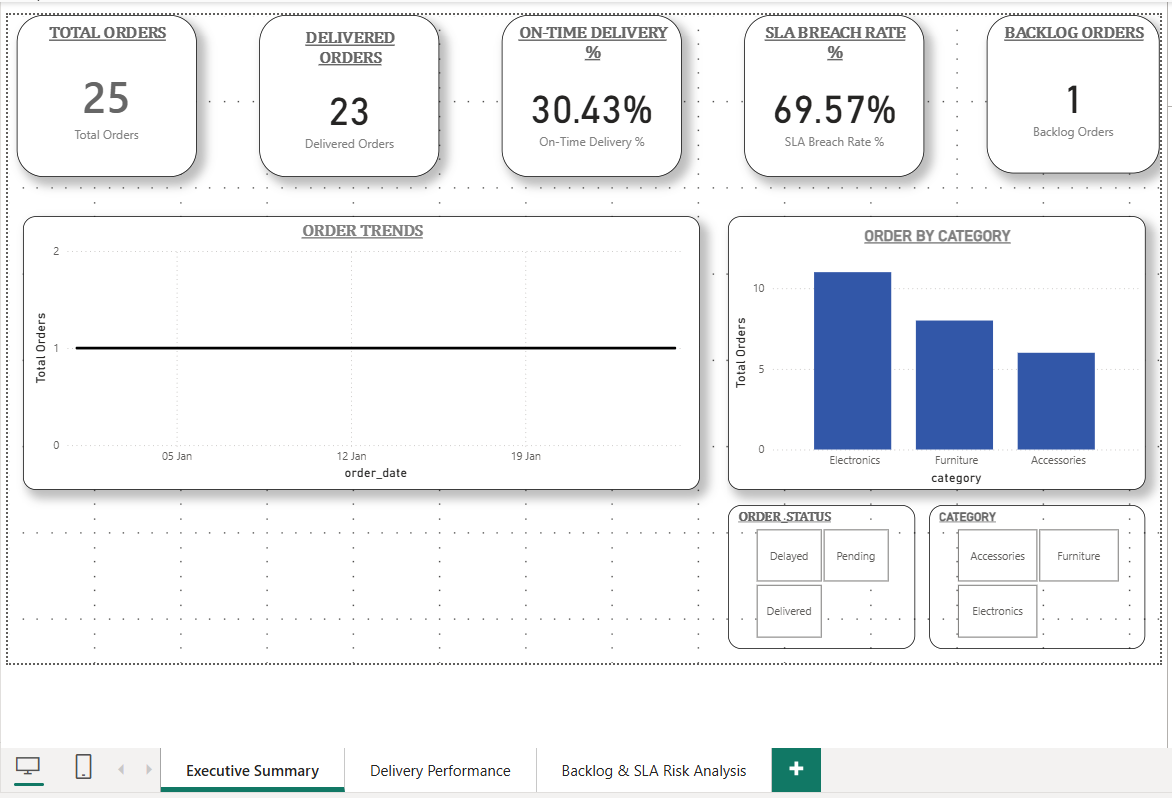

Layout of this report page (visuals, bound fields, positions):
{"tool":"powerbi","page":{"name":"Executive Summary","canvas":[1280,720],"ordinal":0},"visuals":[{"type":"cardVisual","title":"TOTAL ORDERS","fields":{"Data":["sample_orders.Total Orders"]},"box":[10,0,200,180],"z":0},{"type":"card","title":"DELIVERED ORDERS","fields":{"Values":["sample_orders.Delivered Orders"]},"box":[279.5,0,200,180],"z":1000},{"type":"card","title":"ON-TIME DELIVERY %","fields":{"Values":["sample_orders.On-Time Delivery %"]},"box":[549,0,200,180],"z":2000},{"type":"card","title":"SLA BREACH RATE %","fields":{"Values":["sample_orders.SLA Breach Rate %"]},"box":[818.5,0,200,180],"z":3000},{"type":"card","title":"BACKLOG ORDERS","fields":{"Values":["sample_orders.Backlog Orders"]},"box":[1088,0,192,176],"z":4000},{"type":"clusteredColumnChart","title":"ORDER BY CATEGORY","fields":{"Category":["products.category"],"Y":["sample_orders.Total Orders"]},"box":[800,224,464,304],"z":5000},{"type":"lineChart","title":"ORDER TRENDS","fields":{"Y":["sample_orders.Total Orders"],"Category":["sample_orders.order_date"]},"box":[16,224,752,304],"z":6000},{"type":"slicer","title":"CATEGORY","fields":{"Values":["products.category"]},"box":[1024,544,240,160],"z":7000},{"type":"slicer","title":"ORDER_STATUS","fields":{"Values":["sample_orders.order_status"]},"box":[800,544,208,160],"z":8000}]}

Visuals, with their boxes in screenshot pixels (x1, y1, x2, y2):
"TOTAL ORDERS" cardVisual: detection(12, 9, 193, 172)
"DELIVERED ORDERS" card: detection(255, 9, 436, 172)
"ON-TIME DELIVERY %" card: detection(499, 9, 679, 172)
"SLA BREACH RATE %" card: detection(742, 9, 923, 172)
"BACKLOG ORDERS" card: detection(985, 9, 1159, 168)
"ORDER BY CATEGORY" clusteredColumnChart: detection(725, 211, 1144, 486)
"ORDER TRENDS" lineChart: detection(17, 211, 697, 486)
"CATEGORY" slicer: detection(928, 500, 1144, 645)
"ORDER_STATUS" slicer: detection(725, 500, 913, 645)
